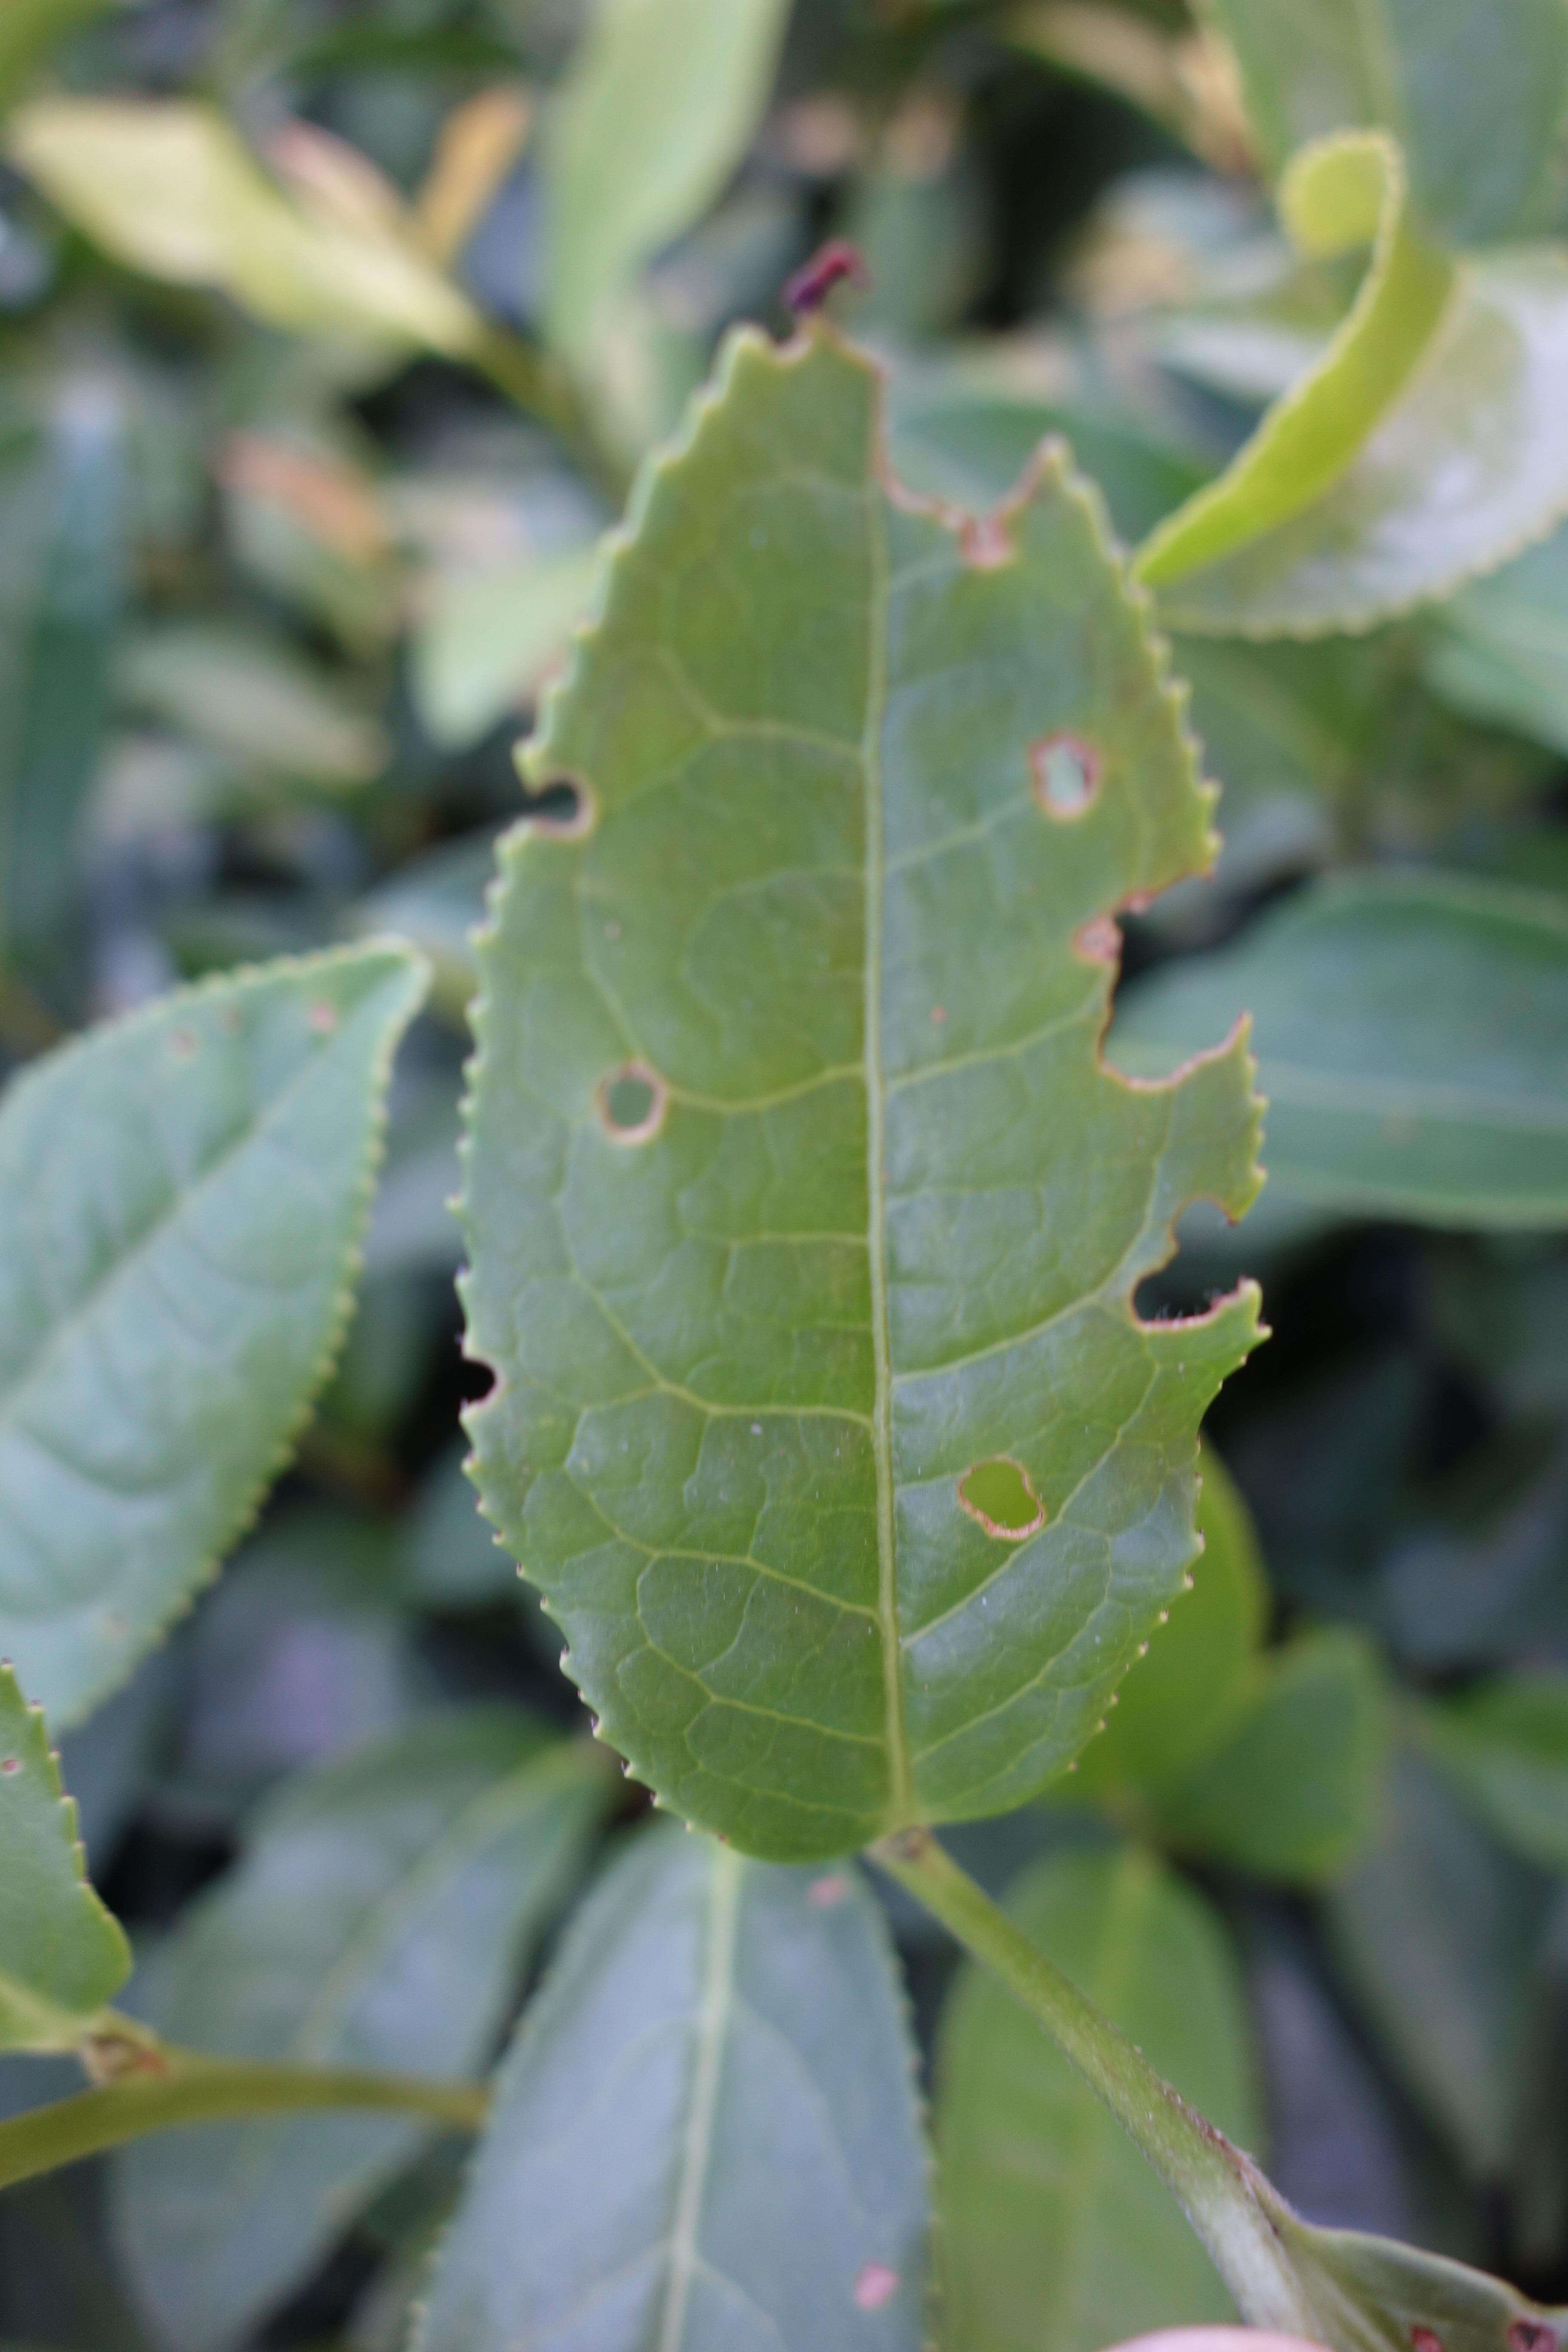chihuo_high: (443, 311, 1276, 1871)
